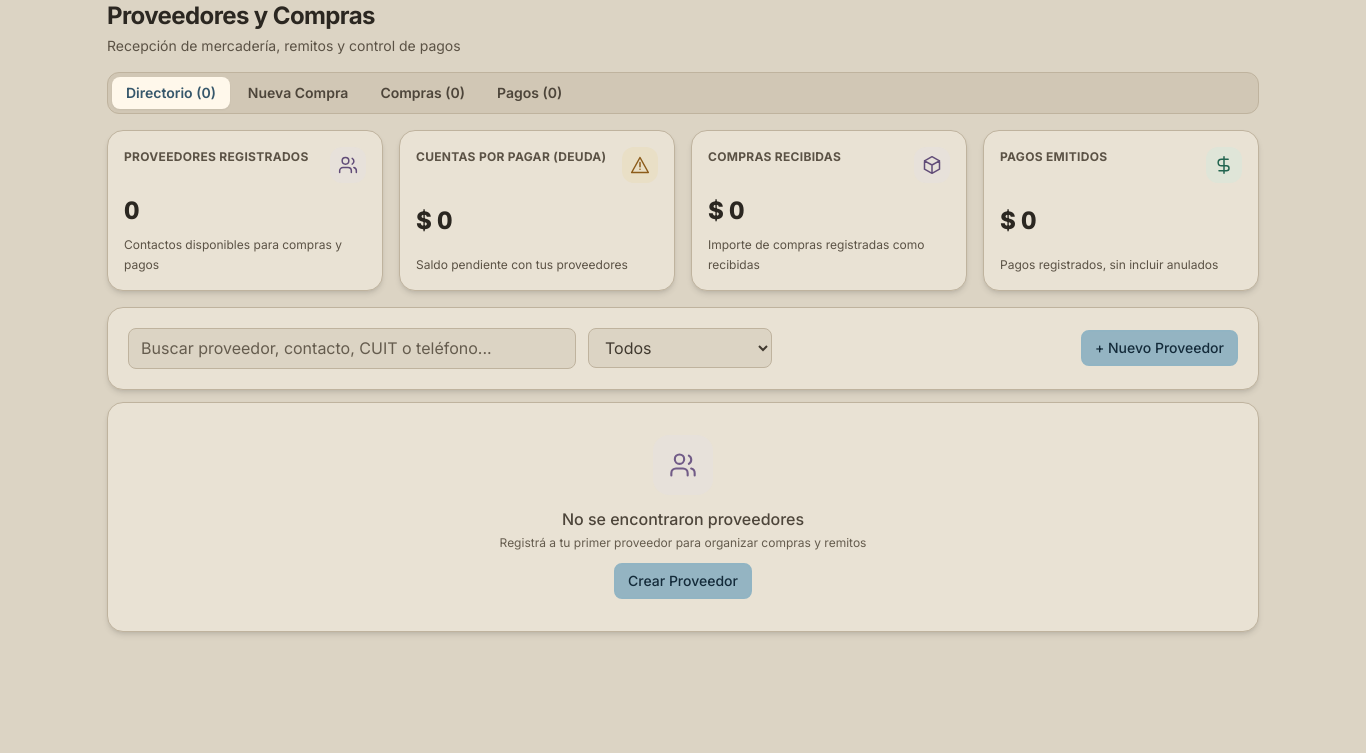
Test case: explica el impacto de carga rápida y permite comenzar creando un proveedor
The image size is (1366, 753).
Click the button "Nueva Compra". click: click(298, 93)
box: [234,77,362,109]
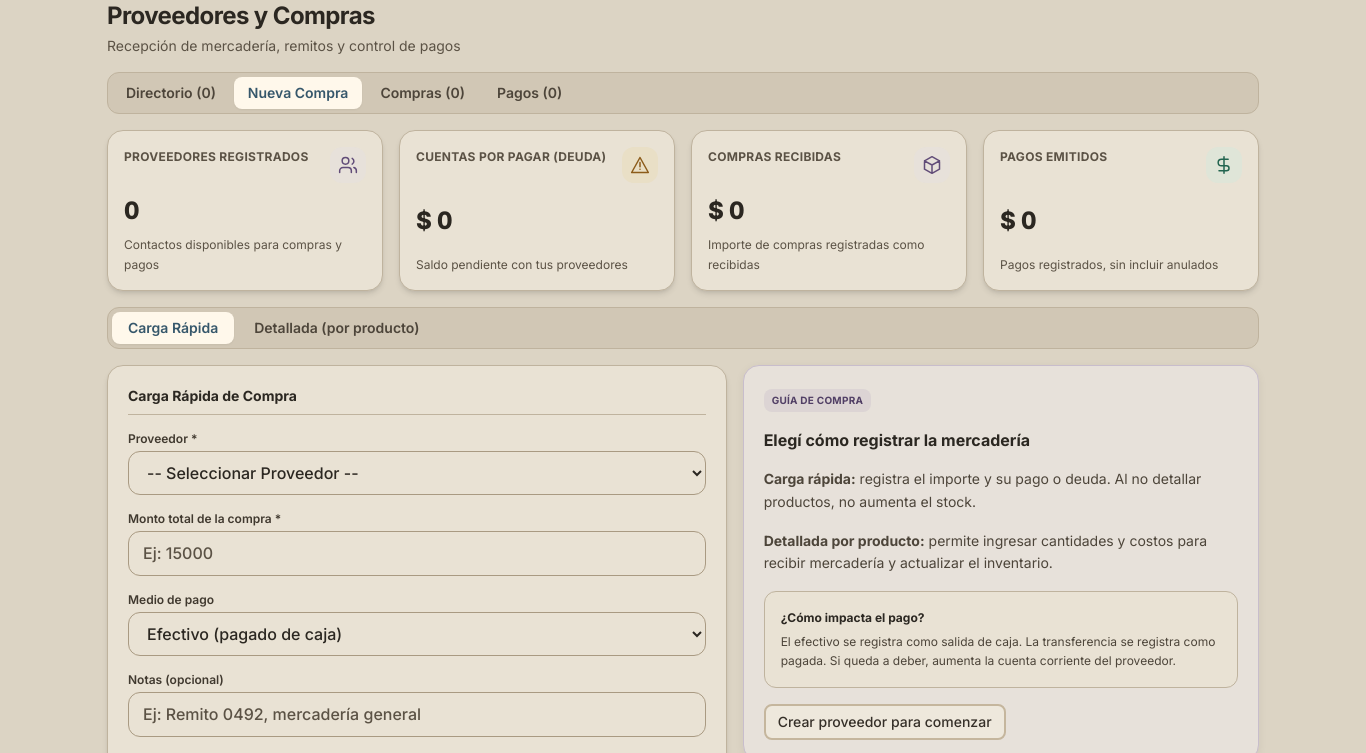
Result: the heading "Carga Rápida de Compra" is shown at [128,386,706,415]
Result: the text "no aumenta el stock" is shown at [764,470,1201,510]
Result: the text "aumenta la cuenta corriente del proveedor" is shown at [781,634,1215,668]
Click the button "Crear proveedor para comenzar". click: click(885, 722)
box: [764,704,1006,740]
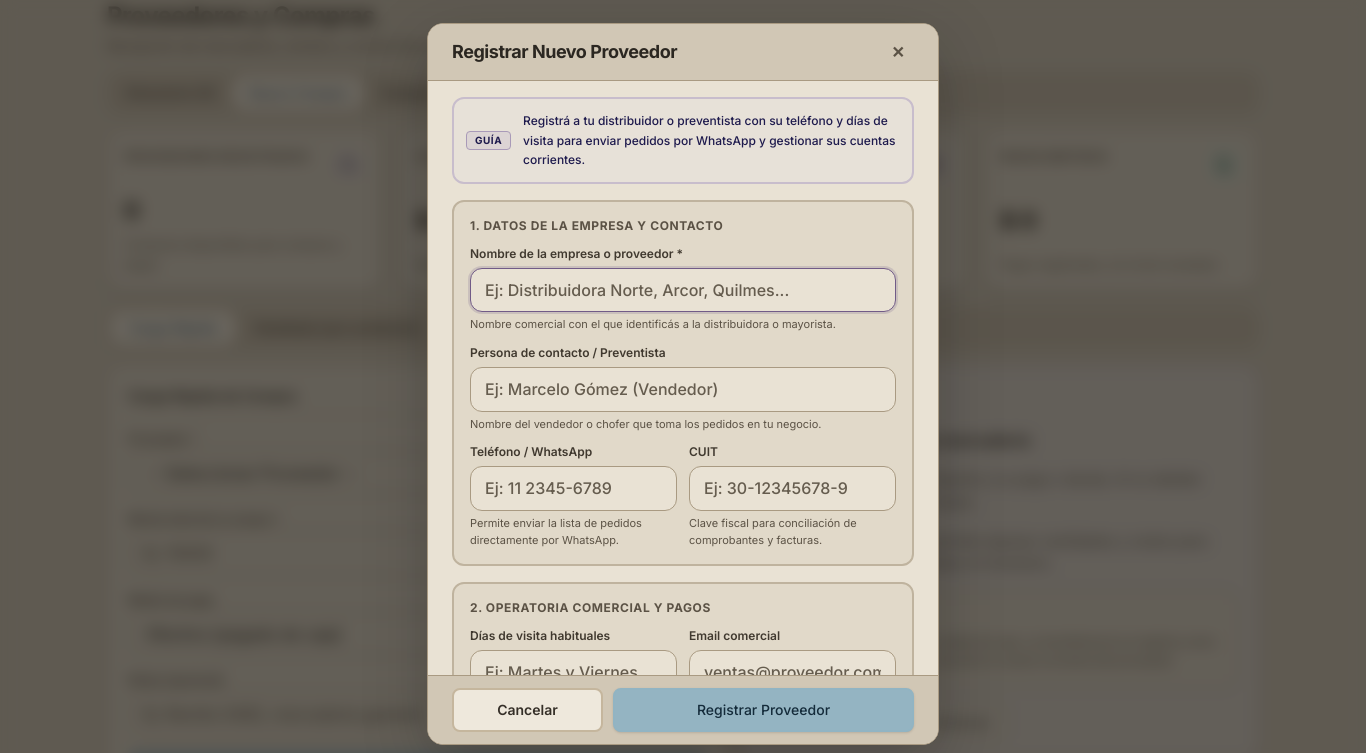
Result: the heading "Registrar Nuevo Proveedor" is shown at [452,38,677,66]
